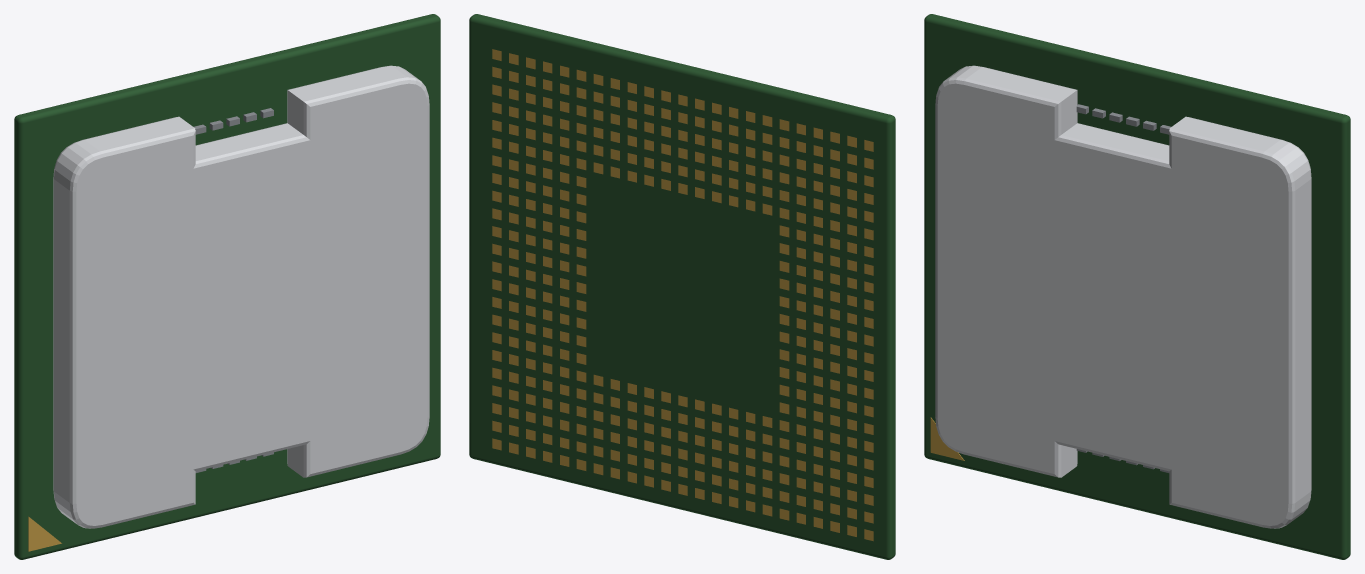
Rendered from 4dcfffec-423b-4052-8aca-db6c0f84bb43.glb.
The picture shows the model from 3 angles, left to right: view 1: azimuth 30°, elevation 25°; view 2: azimuth 150°, elevation 25°; view 3: azimuth 330°, elevation 25°; orthographic projection.
Visible parts, largest first — view 1: CPU_IHS, CPU_Substrate, CPU_Capacitors, CPU_Pin1_Mark; view 2: CPU_Substrate, CPU_Contacts; view 3: CPU_IHS, CPU_Substrate, CPU_Capacitors, CPU_Pin1_Mark.
Part boxes in pixels (x1,y1,x2,y2): CPU_IHS: [53, 65, 429, 528]; CPU_Substrate: [14, 14, 440, 559]; CPU_Capacitors: [194, 108, 273, 472]; CPU_Pin1_Mark: [28, 516, 61, 551]; CPU_Substrate: [469, 14, 895, 559]; CPU_Contacts: [492, 49, 873, 541]; CPU_IHS: [935, 65, 1311, 528]; CPU_Substrate: [924, 14, 1350, 559]; CPU_Capacitors: [1076, 104, 1170, 472]; CPU_Pin1_Mark: [930, 417, 964, 460].
Bounding box in the file's own units: 0.04 × 0.04 × 0.00461.
